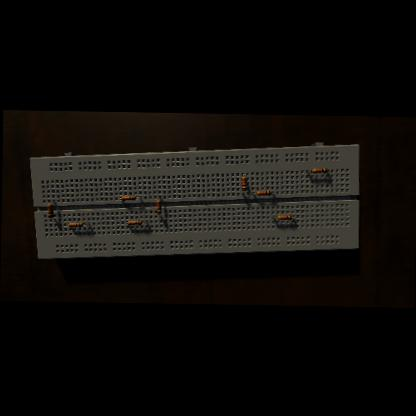breadboard: (27, 136, 359, 264)
resistor: (46, 203, 52, 217), (67, 221, 82, 226), (277, 214, 291, 219), (120, 195, 134, 200), (240, 176, 245, 190), (127, 219, 140, 224), (311, 168, 326, 172), (156, 199, 160, 213), (256, 190, 270, 194)
wire: (141, 221, 146, 223), (48, 200, 53, 202), (272, 216, 276, 218), (252, 192, 256, 194), (81, 223, 88, 224), (49, 218, 55, 219), (158, 214, 160, 217), (242, 190, 244, 193), (304, 170, 310, 171), (157, 197, 159, 199), (240, 174, 242, 176), (291, 216, 293, 217), (126, 221, 126, 222), (270, 192, 272, 192), (326, 170, 328, 170)
